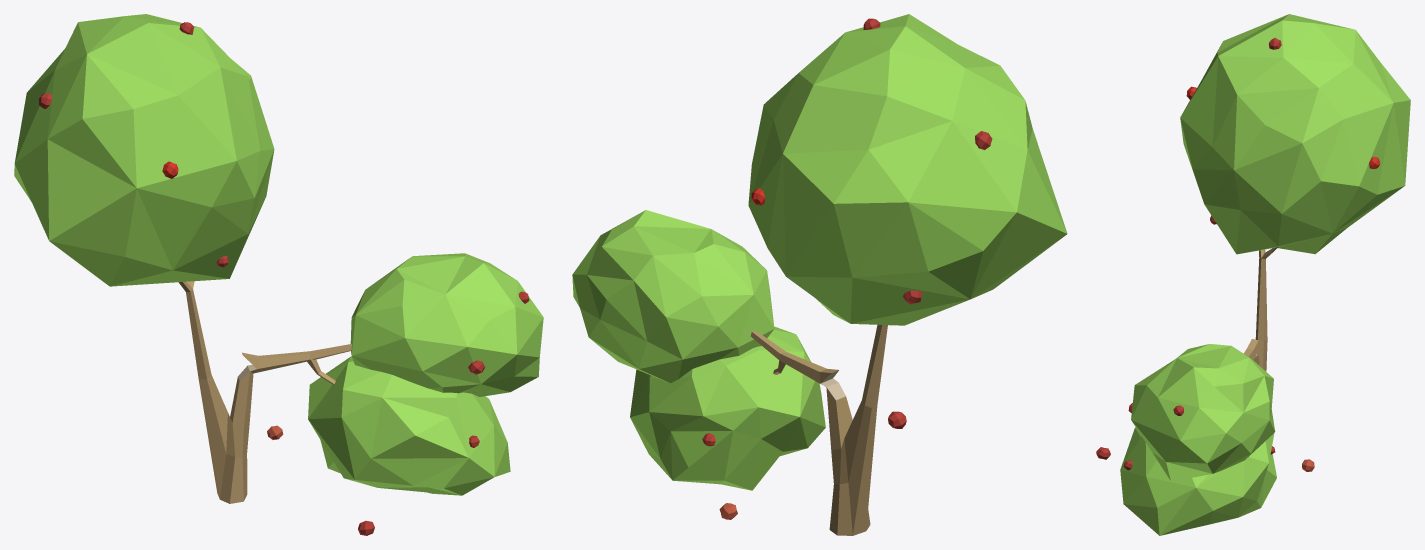
File: Apple_Tree_Apples_crk_m_04_LOD.fbx
3 views of the same model, side by side, from view 1: azimuth 30°, elevation 25°; view 2: azimuth 150°, elevation 25°; view 3: azimuth 270°, elevation 25° (orthographic). The views are drawn at different scales.
Visible parts, largest first — view 1: Apple_Tree_Apples_crk_m_04_LOD0; view 2: Apple_Tree_Apples_crk_m_04_LOD0; view 3: Apple_Tree_Apples_crk_m_04_LOD0.
Part boxes in pixels (x1,y1,x2,y2): Apple_Tree_Apples_crk_m_04_LOD0: (14, 14, 543, 535); Apple_Tree_Apples_crk_m_04_LOD0: (572, 14, 1067, 535); Apple_Tree_Apples_crk_m_04_LOD0: (1096, 14, 1410, 535).
Size of what is drawn, in the model's own units: 869 by 869 by 605.
